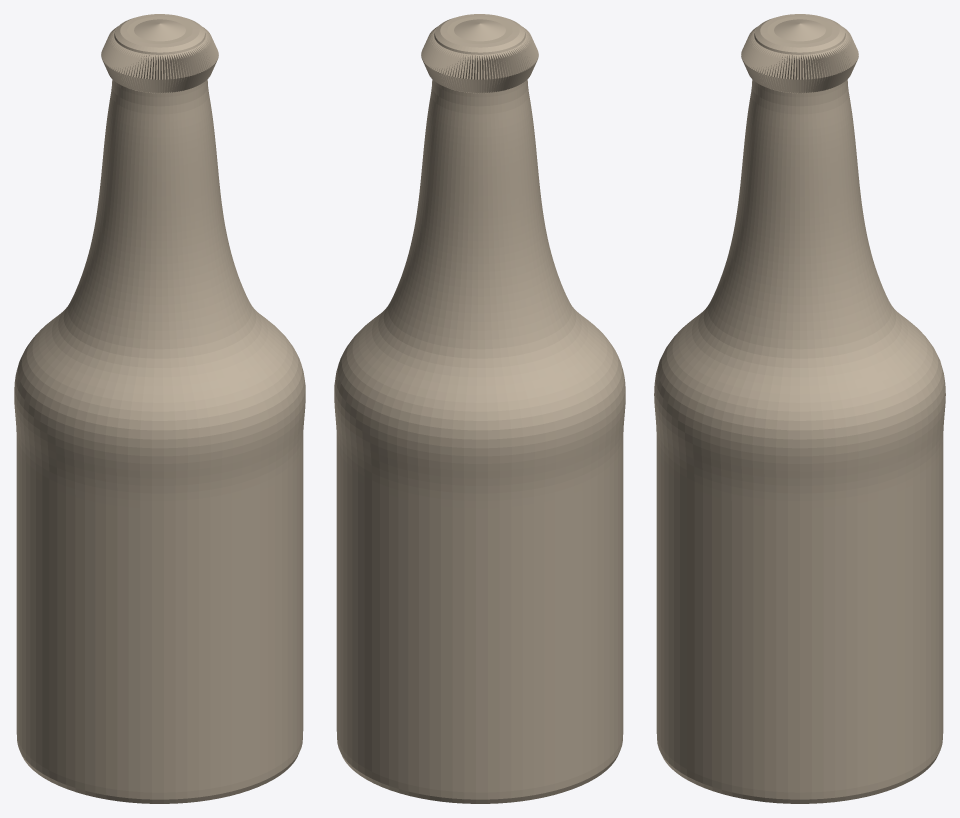
File: 3dcodebench_Bottle_seed0.glb
3 views of the same model, side by side, from view 1: azimuth 30°, elevation 25°; view 2: azimuth 150°, elevation 25°; view 3: azimuth 270°, elevation 25° (orthographic).
Parts seen in each view (by area): view 1: object; view 2: object; view 3: object.
Part boxes in pixels (box(x1,y1,x2,y2)): object: box(14, 14, 305, 803); object: box(334, 14, 625, 803); object: box(654, 14, 945, 803).
Size of the model in its own units: 0.0915 by 0.2505 by 0.0915.
